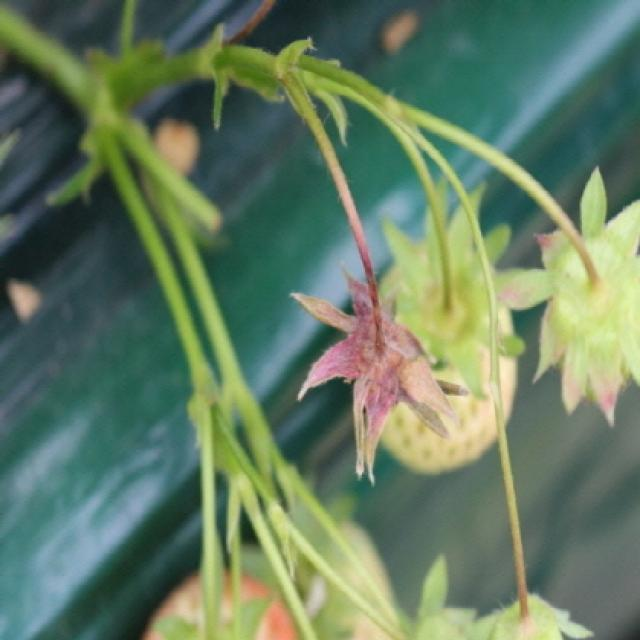Gray Mold: (293, 267, 470, 482)
